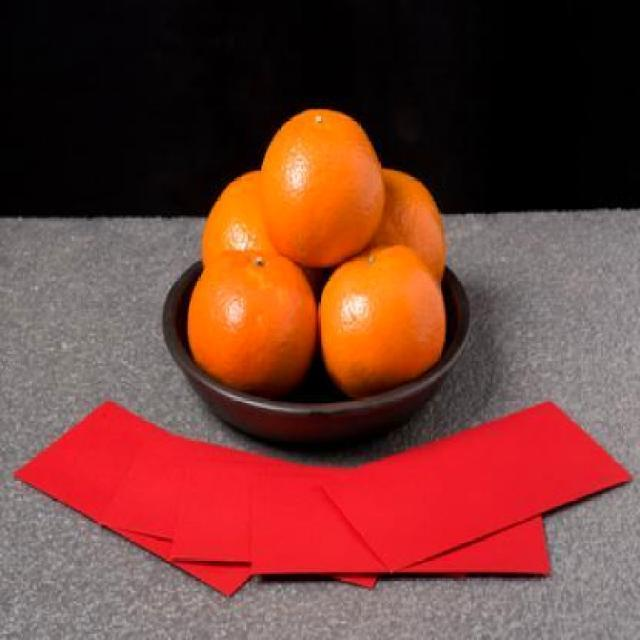Jeruk Sudah Matang: (318, 246, 446, 408), (188, 247, 317, 406), (262, 109, 384, 262), (200, 172, 314, 321), (344, 164, 448, 313)
